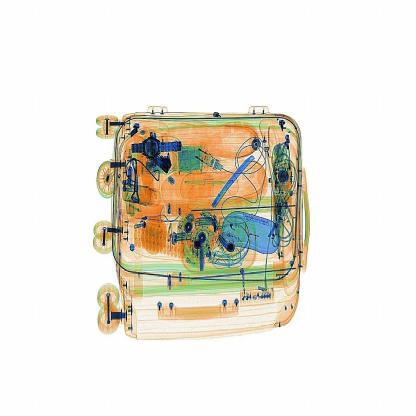pliers: (208, 146, 271, 215)
